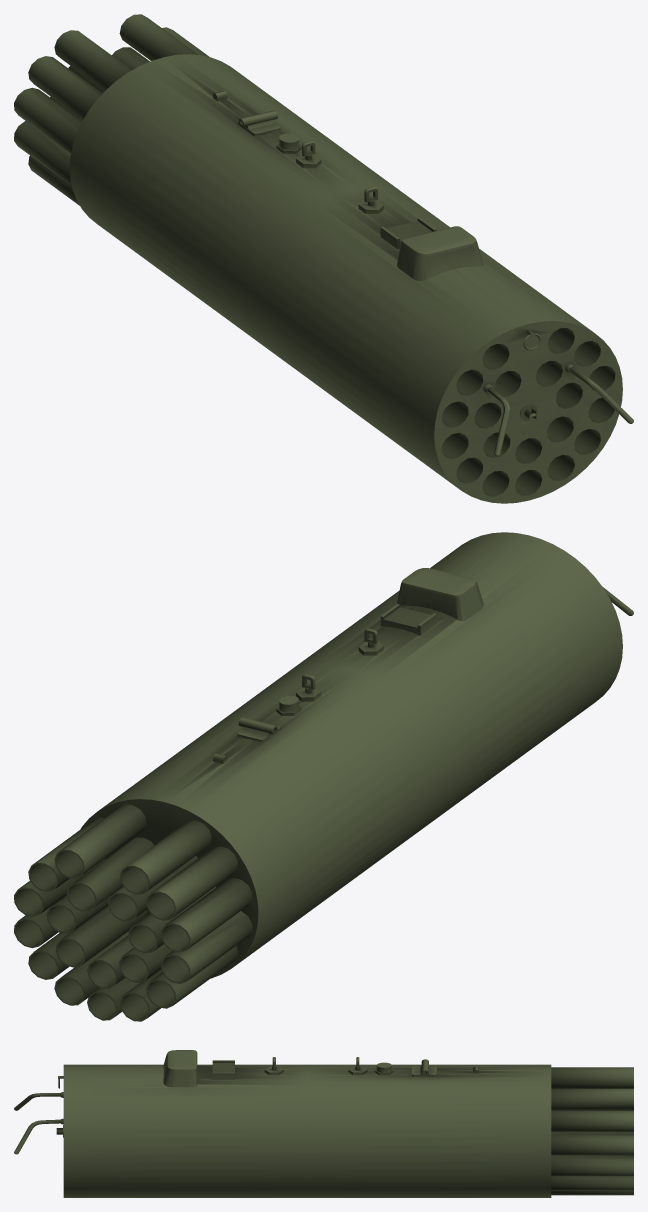
Rendered from w_lau61.glb.
3 views of the same model, one above another, from view 1: azimuth 30°, elevation 25°; view 2: azimuth 150°, elevation 25°; view 3: azimuth 270°, elevation 25° (orthographic). The views are drawn at different scales.
Visible parts, largest first — view 1: body|Scene_-_Root; view 2: body|Scene_-_Root; view 3: body|Scene_-_Root.
Boxes of the visible parts, x1,y1,x2,y2 form: body|Scene_-_Root: (14,14,633,503); body|Scene_-_Root: (14,532,633,1021); body|Scene_-_Root: (14,1050,633,1197).
Bounding box in the file's own units: 0.3997 × 0.3998 × 1.7.
